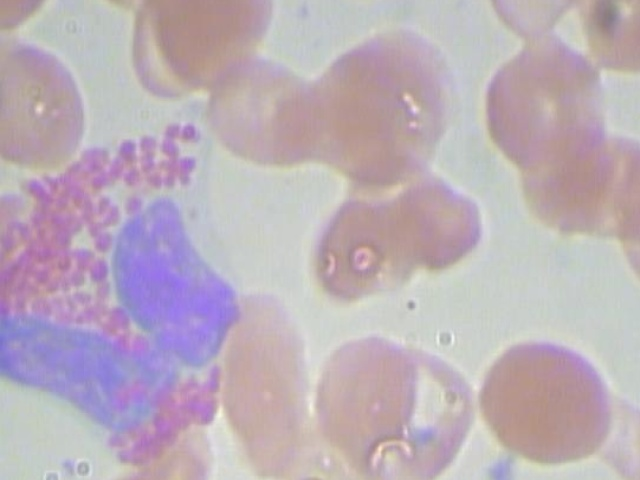Platelets: (475, 452, 526, 480)
RBC: (293, 19, 457, 187), (208, 286, 326, 480), (462, 333, 623, 465), (468, 35, 613, 180), (194, 48, 334, 170), (0, 8, 100, 168), (311, 325, 425, 453), (301, 187, 417, 303), (507, 111, 623, 227), (381, 160, 496, 276), (123, 0, 284, 77), (274, 412, 389, 480), (100, 423, 216, 480), (461, 0, 606, 36), (0, 0, 79, 33)
WBC: (0, 88, 244, 465)
